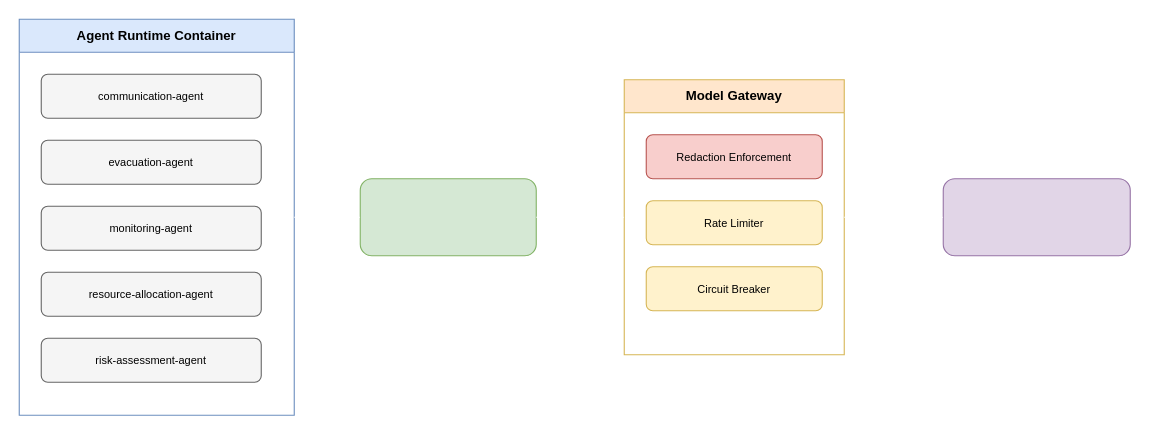
The diagram is 1150 pixels wide and 435 high, and some of its shapes have lost their labels. Here are the shapes that lost their labels. From the top down, the centre of each, then its label:
point 447,217: LLM Client (Prompt Construction)
point 1036,217: Foundry Endpoint (Azure AI / OpenAI)
